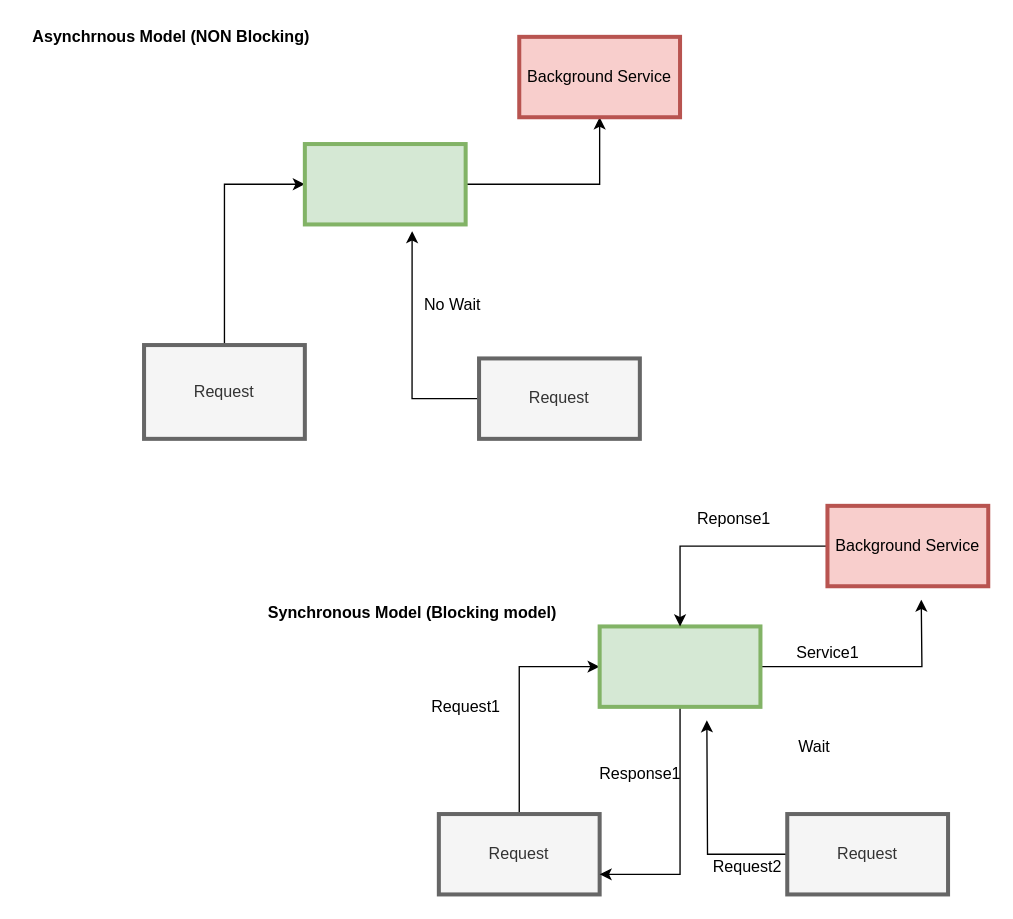
Image size: 1013x919. Some labels were removed from this diagram. Here are the shapes that lost their labels. From the top down, the centre of each, then its label:
(384,183): Single Thread
(679,666): Thread
